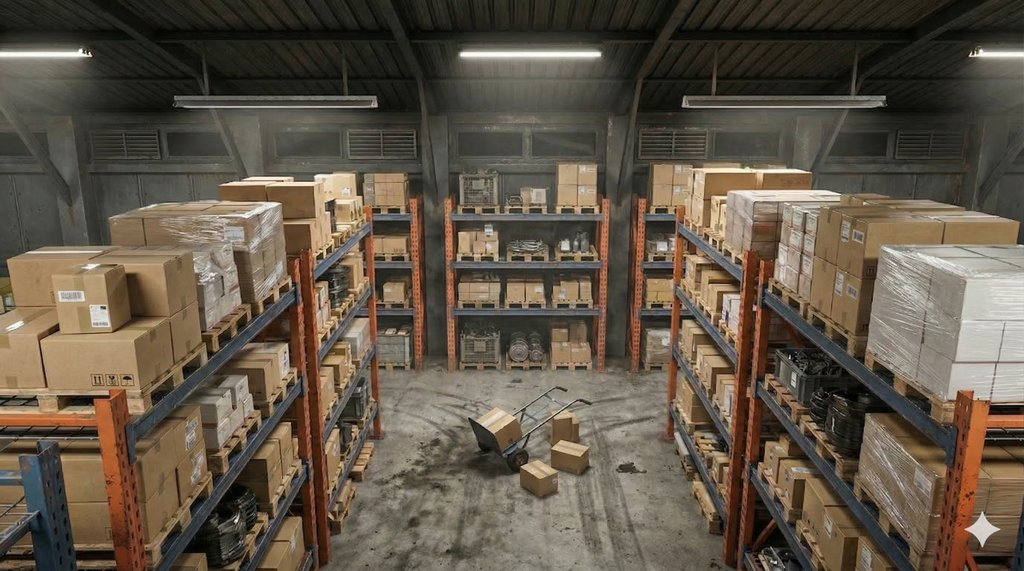obstacle: (384, 354, 670, 546)
pallet: (855, 350, 966, 435), (848, 473, 938, 562), (2, 383, 144, 428), (781, 406, 845, 474), (804, 305, 882, 355), (760, 276, 811, 330), (756, 373, 802, 418), (499, 355, 554, 380), (548, 354, 603, 379), (504, 296, 556, 318), (456, 206, 507, 228), (552, 203, 605, 224), (502, 249, 559, 268), (548, 293, 591, 318), (547, 246, 596, 267), (376, 296, 420, 319), (455, 296, 505, 314), (368, 202, 406, 225), (455, 249, 501, 267), (503, 202, 551, 219), (458, 359, 509, 375), (378, 253, 423, 266)
